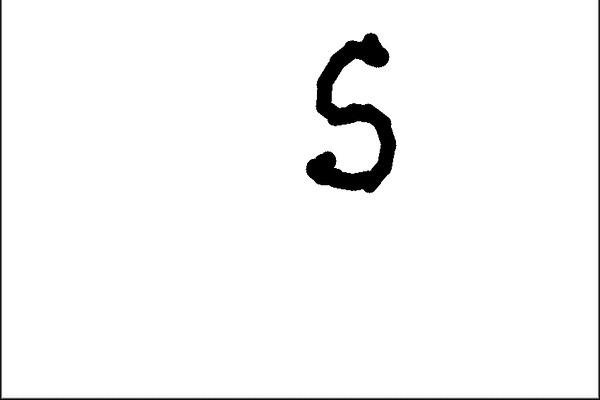S: (299, 27, 405, 205)
